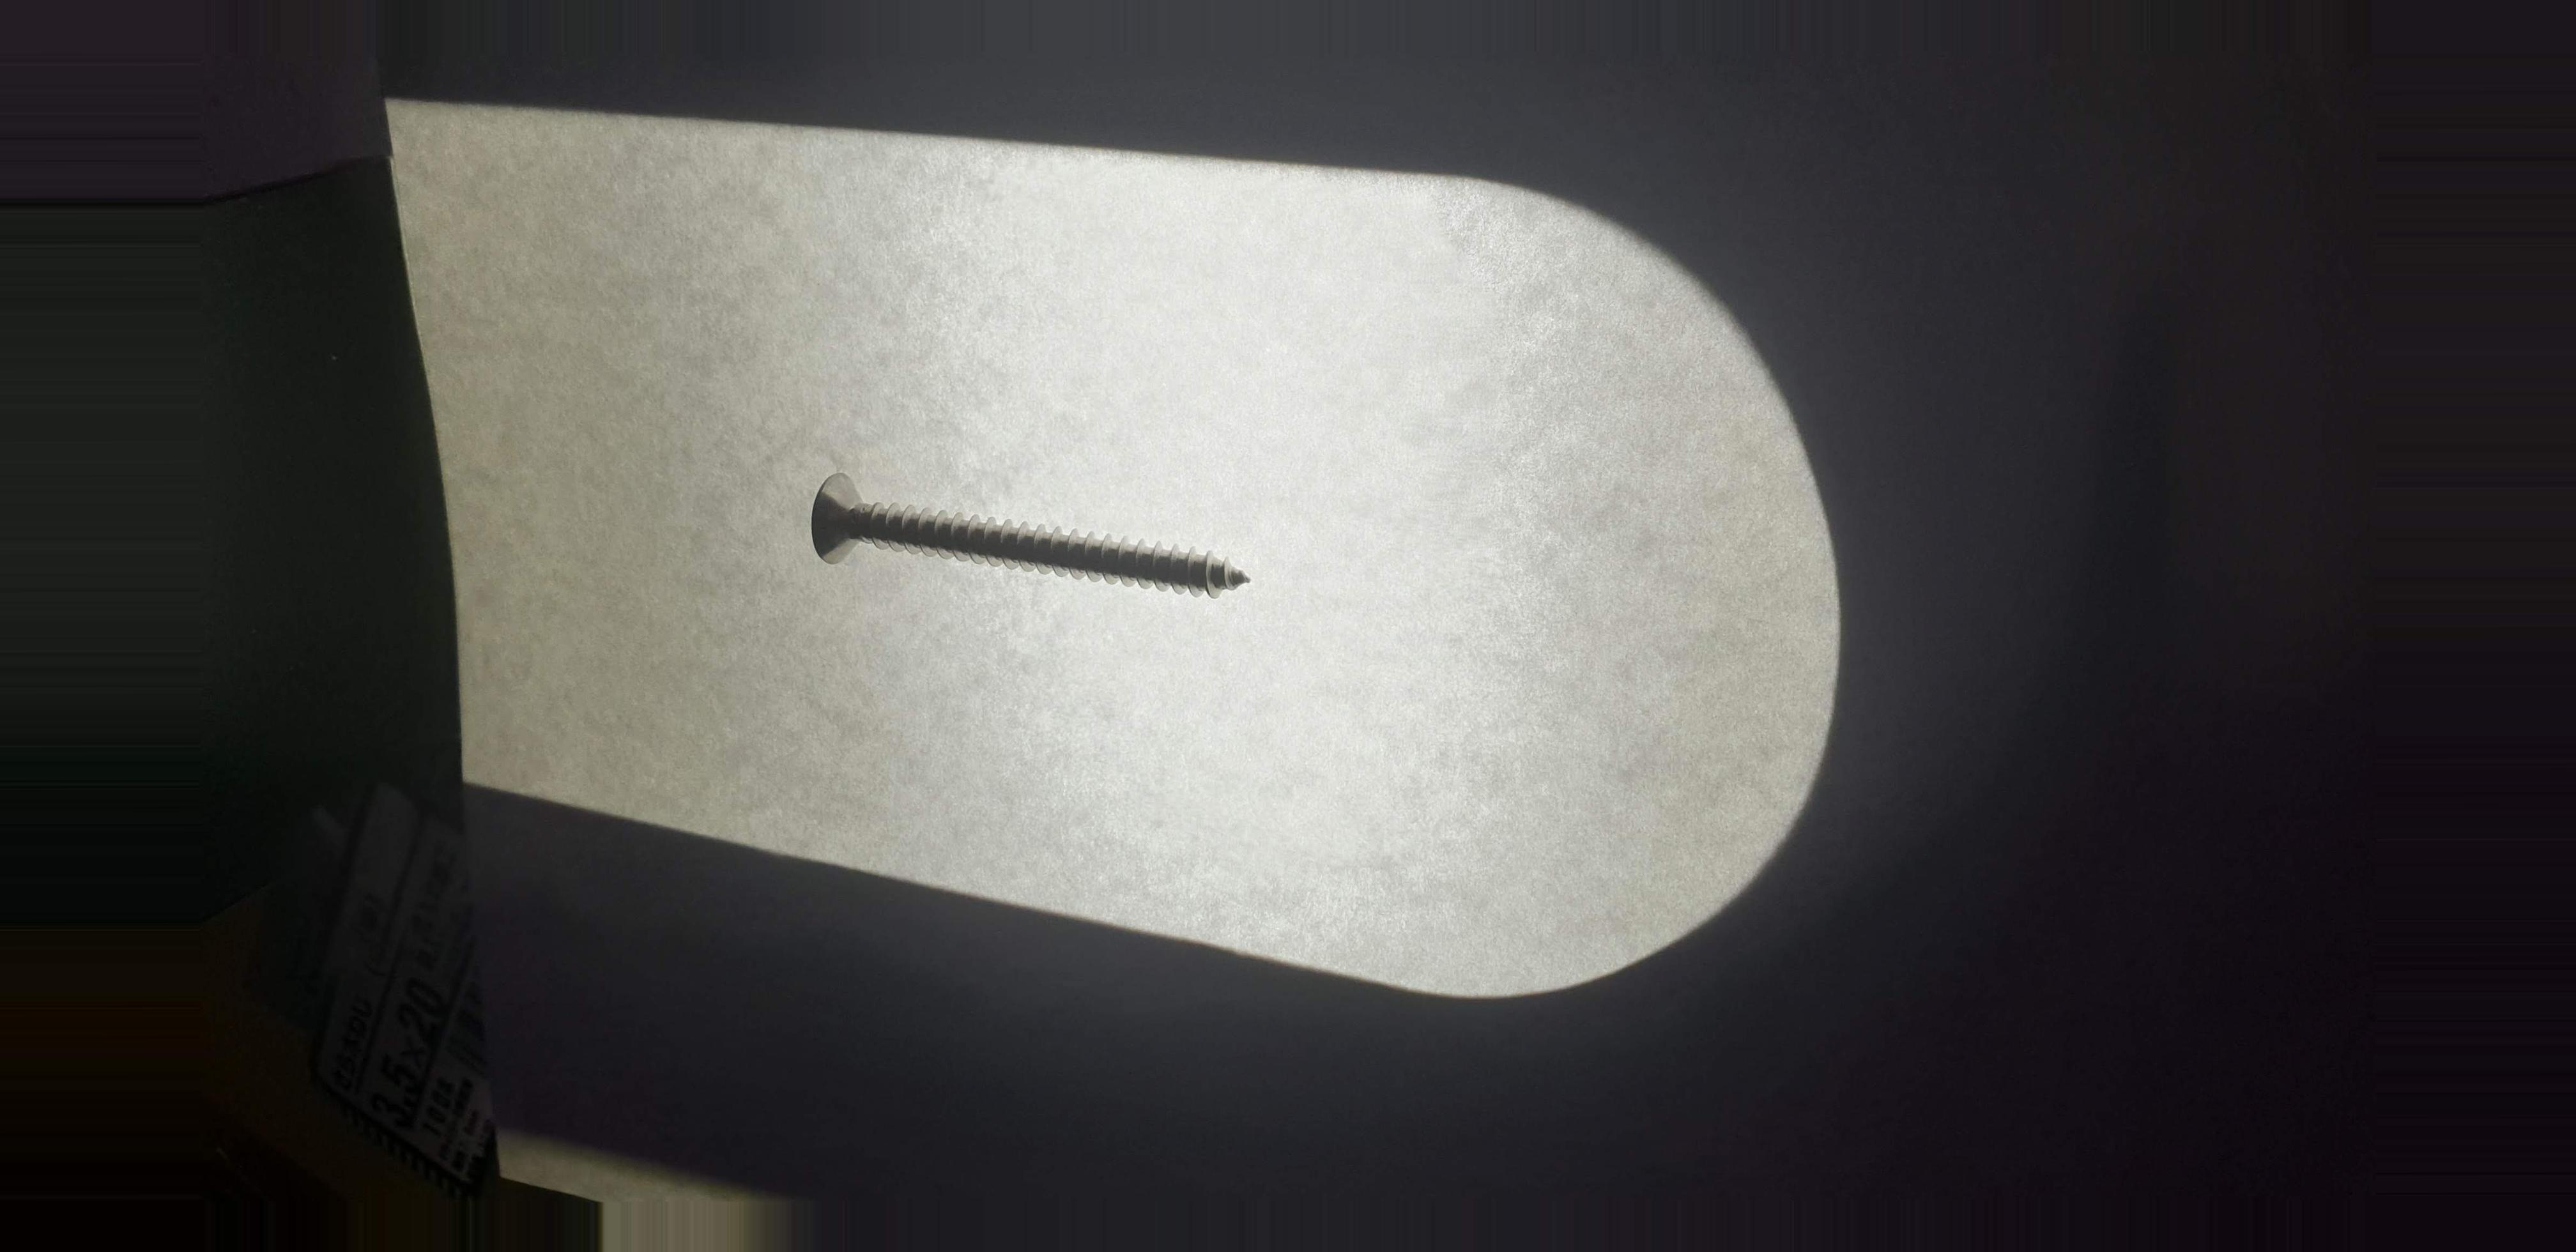S001: (728, 422, 1403, 667)
